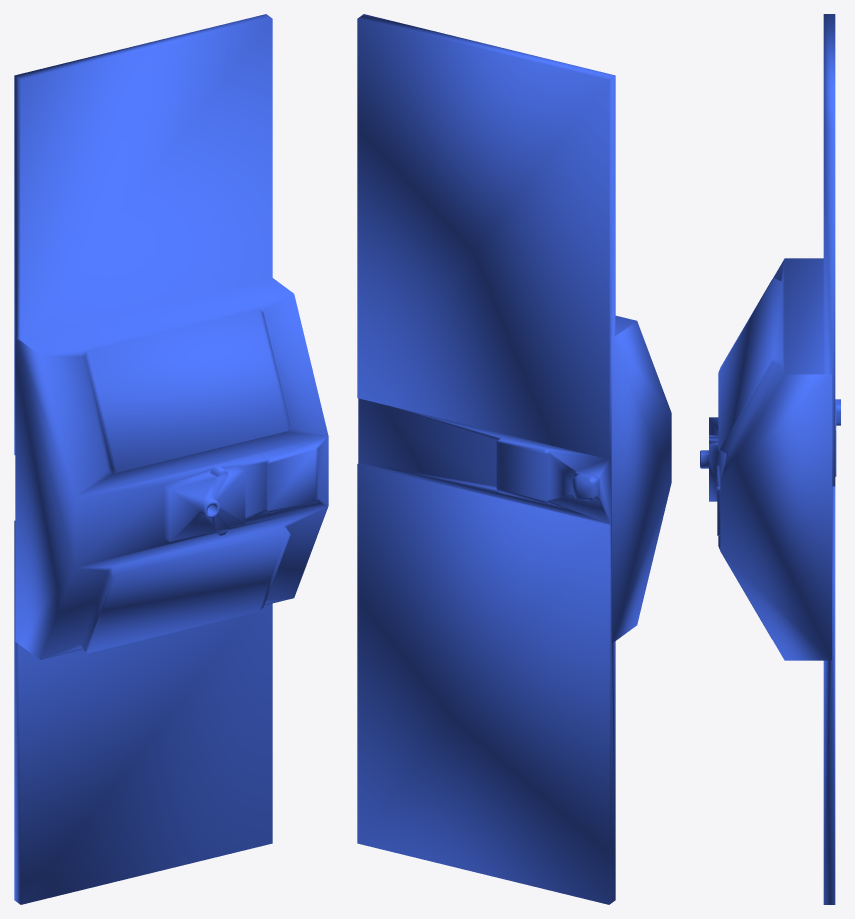
The model's file is CYGNSS.obj.
The picture shows the model from 3 angles, left to right: view 1: azimuth 30°, elevation 25°; view 2: azimuth 150°, elevation 25°; view 3: azimuth 270°, elevation 25°; orthographic projection. The views are drawn at different scales.
Visible parts, largest first — view 1: Part__Feature; view 2: Part__Feature; view 3: Part__Feature.
Part boxes in pixels (bbox=[...]): Part__Feature: bbox=[14, 14, 328, 904]; Part__Feature: bbox=[357, 14, 671, 904]; Part__Feature: bbox=[700, 14, 840, 904].
Bounding box in the file's own units: 0.5264 × 1.64 × 0.2692.
